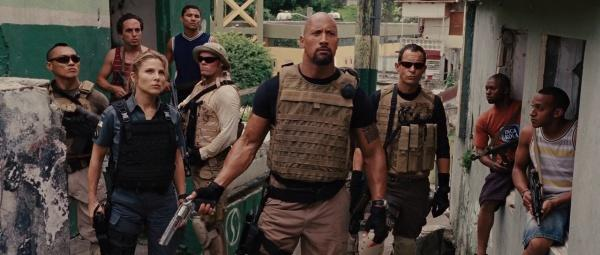Gun: (157, 195, 215, 247), (529, 169, 544, 227)
